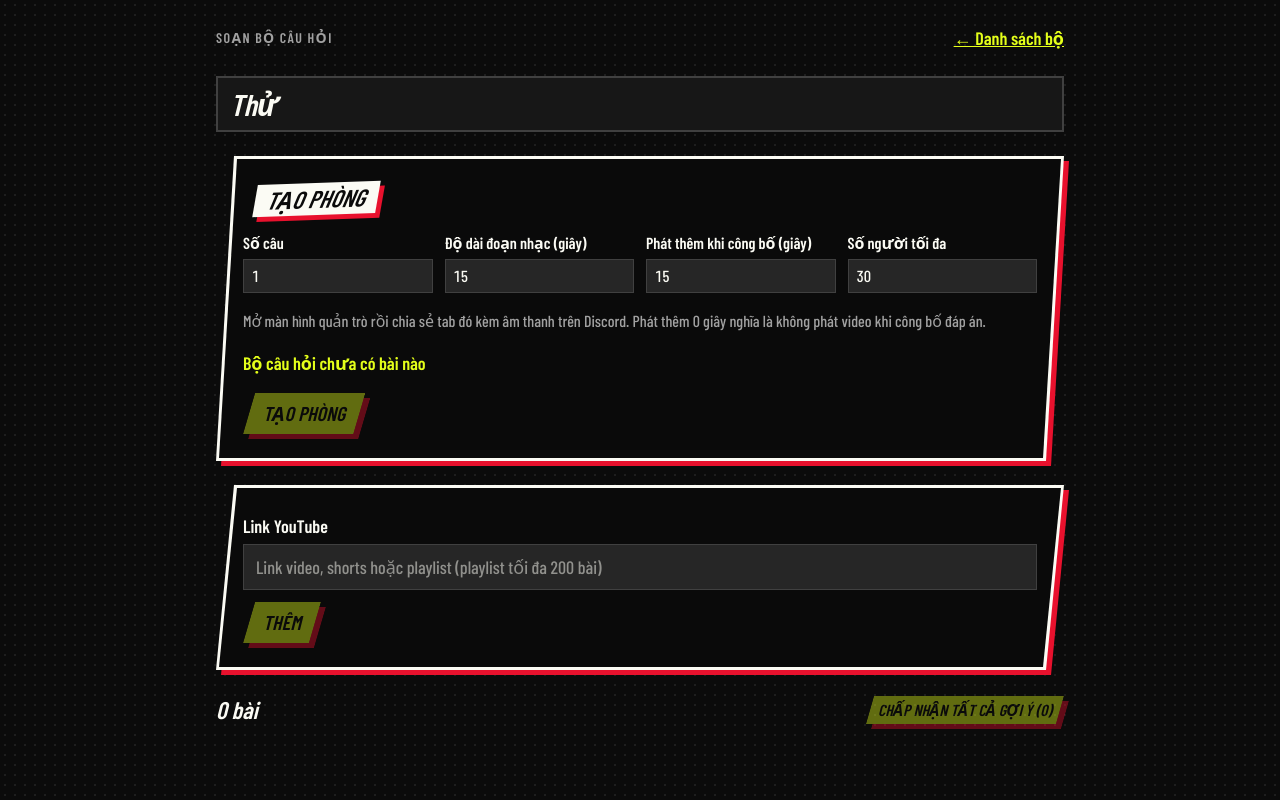
Test: SetEditor › imports a playlist, fills suggestions and saves the set
In the field labelled "Link YouTube": (640, 567) [243,544,1037,590], type "https://www.youtube.com/playlist?list=PL123"
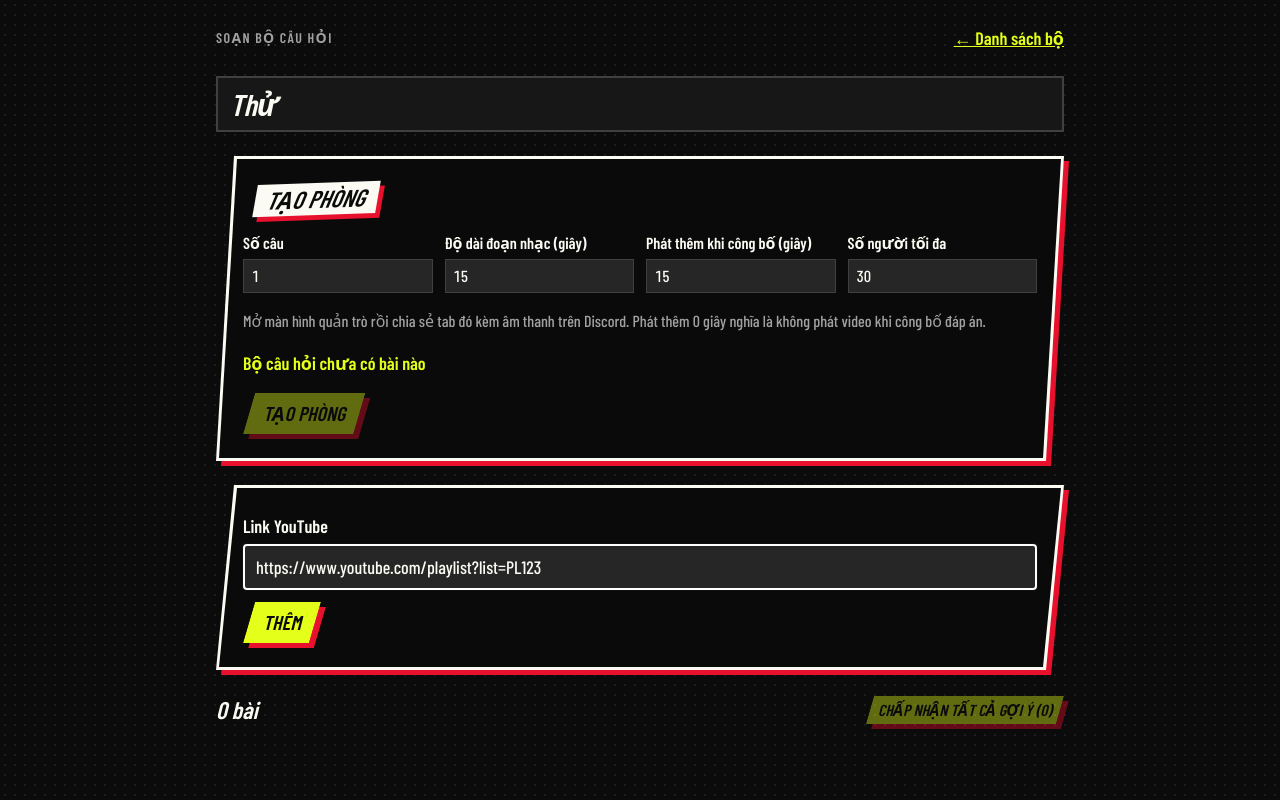
Click the button "Thêm": (282, 622) [243,602,321,643]
(page scrolled)
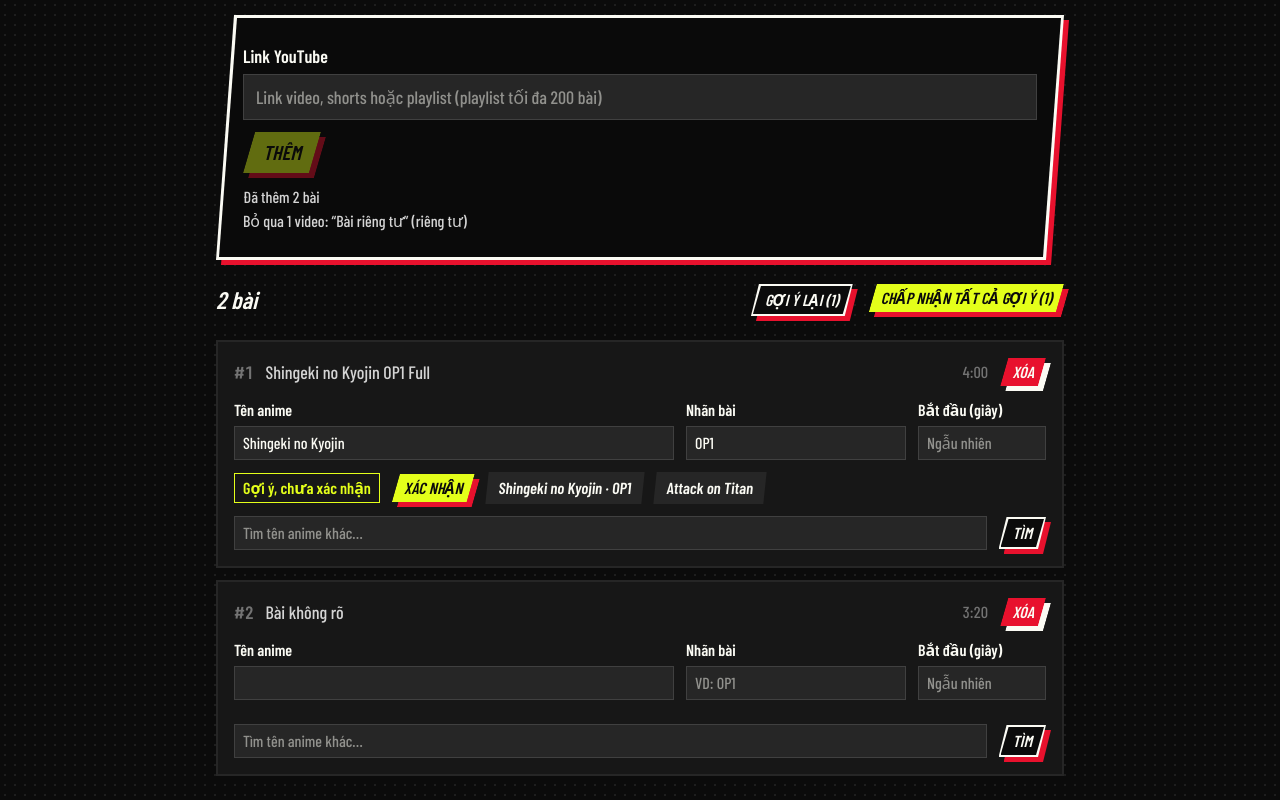
Expected: the message shows "Đã thêm 2 bài", [243,187,320,206]
Expected: the message shows "Bỏ qua 1 video: “Bài riêng tư” (riêng tư)", [243,211,467,230]
